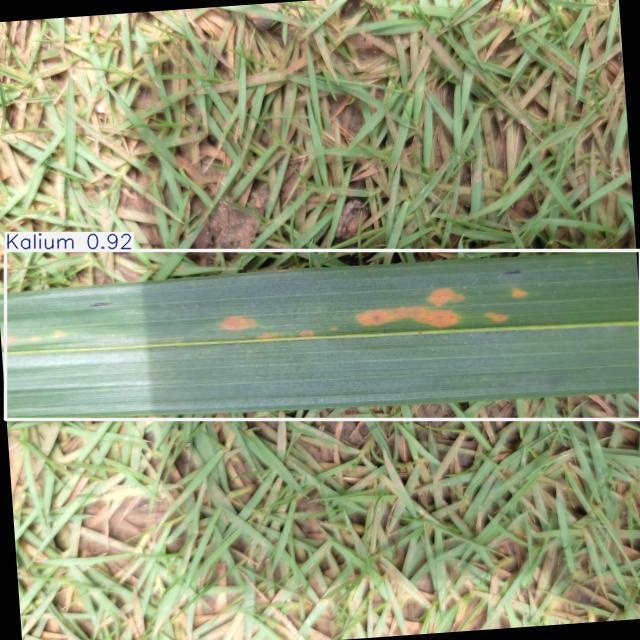Kalium: (5, 250, 640, 419)
